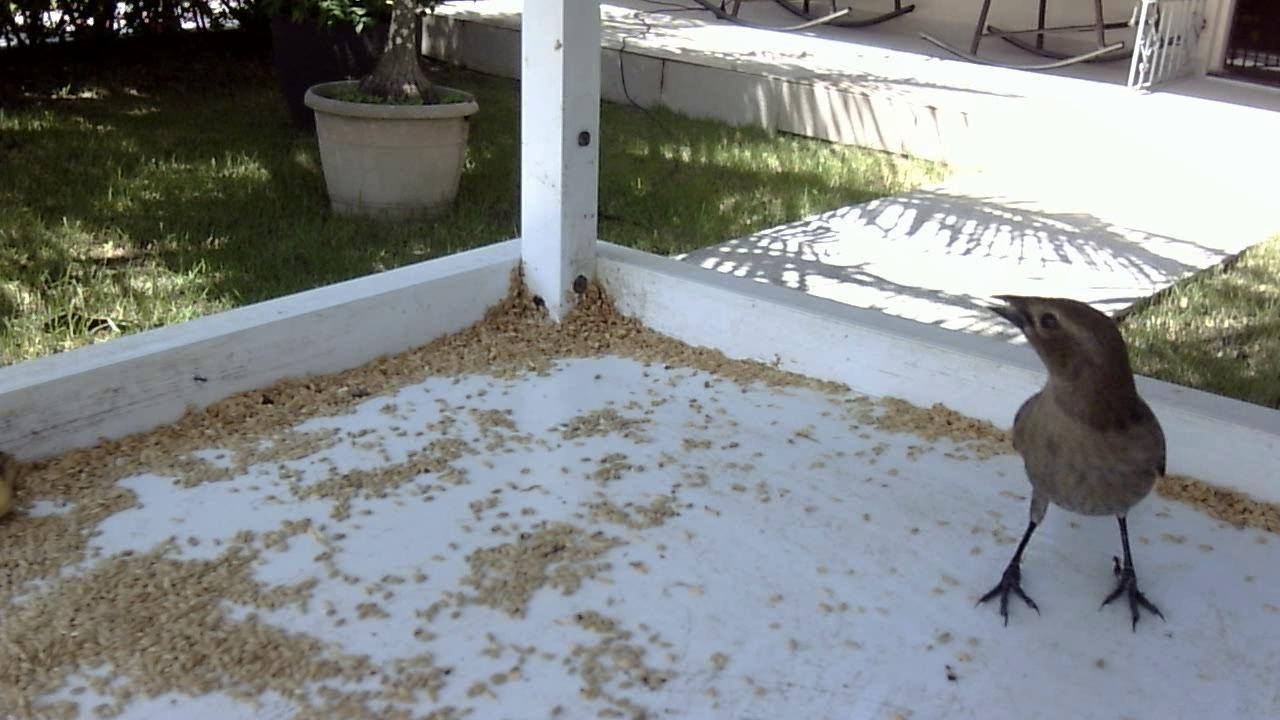chupim: (950, 280, 1190, 645)
